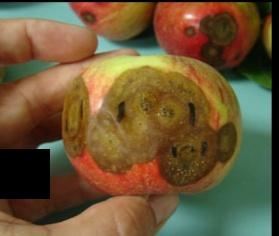rotten apple: (57, 53, 247, 200), (153, 3, 258, 68), (68, 3, 151, 43)
